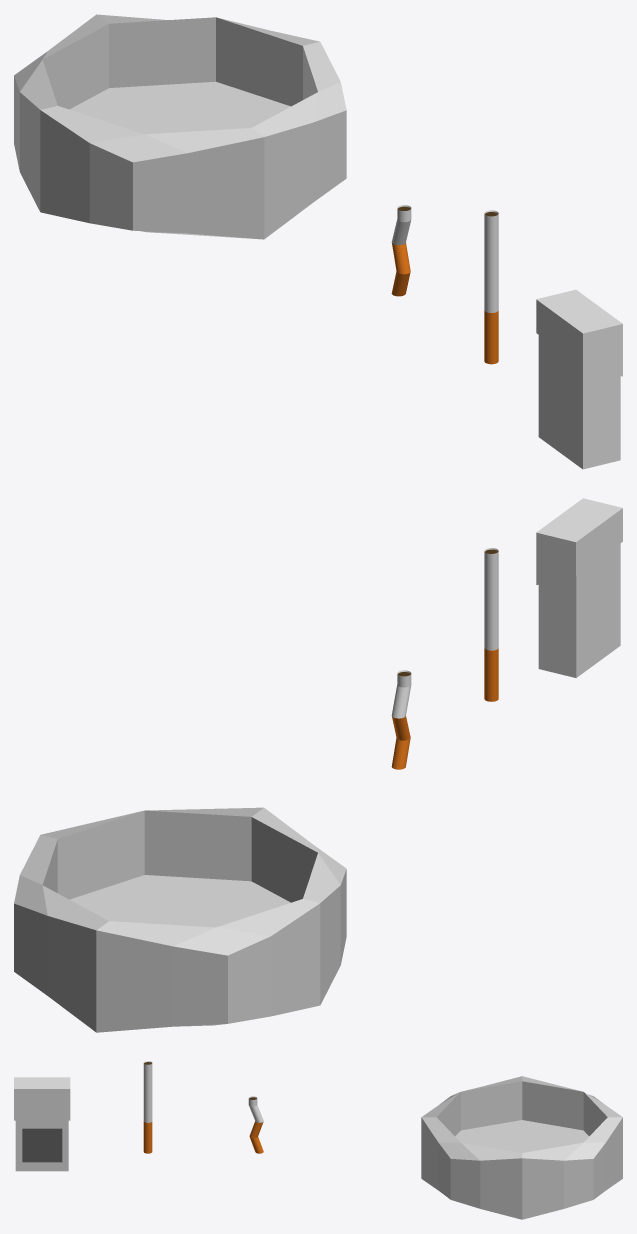
The model's file is Tabs.fbx.
The picture shows the model from 3 angles, top to bottom: view 1: azimuth 30°, elevation 25°; view 2: azimuth 150°, elevation 25°; view 3: azimuth 270°, elevation 25°; orthographic projection. The views are drawn at different scales.
Parts seen in each view (by area): view 1: Ashtray, Cube, TabFull, TabFinished; view 2: Ashtray, Cube, TabFull, TabFinished; view 3: Ashtray, Cube, TabFull, TabFinished.
Boxes of the visible parts, x1,y1,x2,y2 form: Ashtray: (14,14,346,239); Cube: (536,289,622,469); TabFull: (484,210,498,364); TabFinished: (391,205,411,296); Ashtray: (14,807,346,1032); Cube: (536,498,622,677); TabFull: (484,548,498,701); TabFinished: (391,670,411,769); Ashtray: (421,1076,622,1219); Cube: (14,1077,70,1171); TabFull: (143,1061,152,1153); TabFinished: (248,1096,263,1153).
Bounding box in the file's own units: 49.88 × 32.78 × 156.
